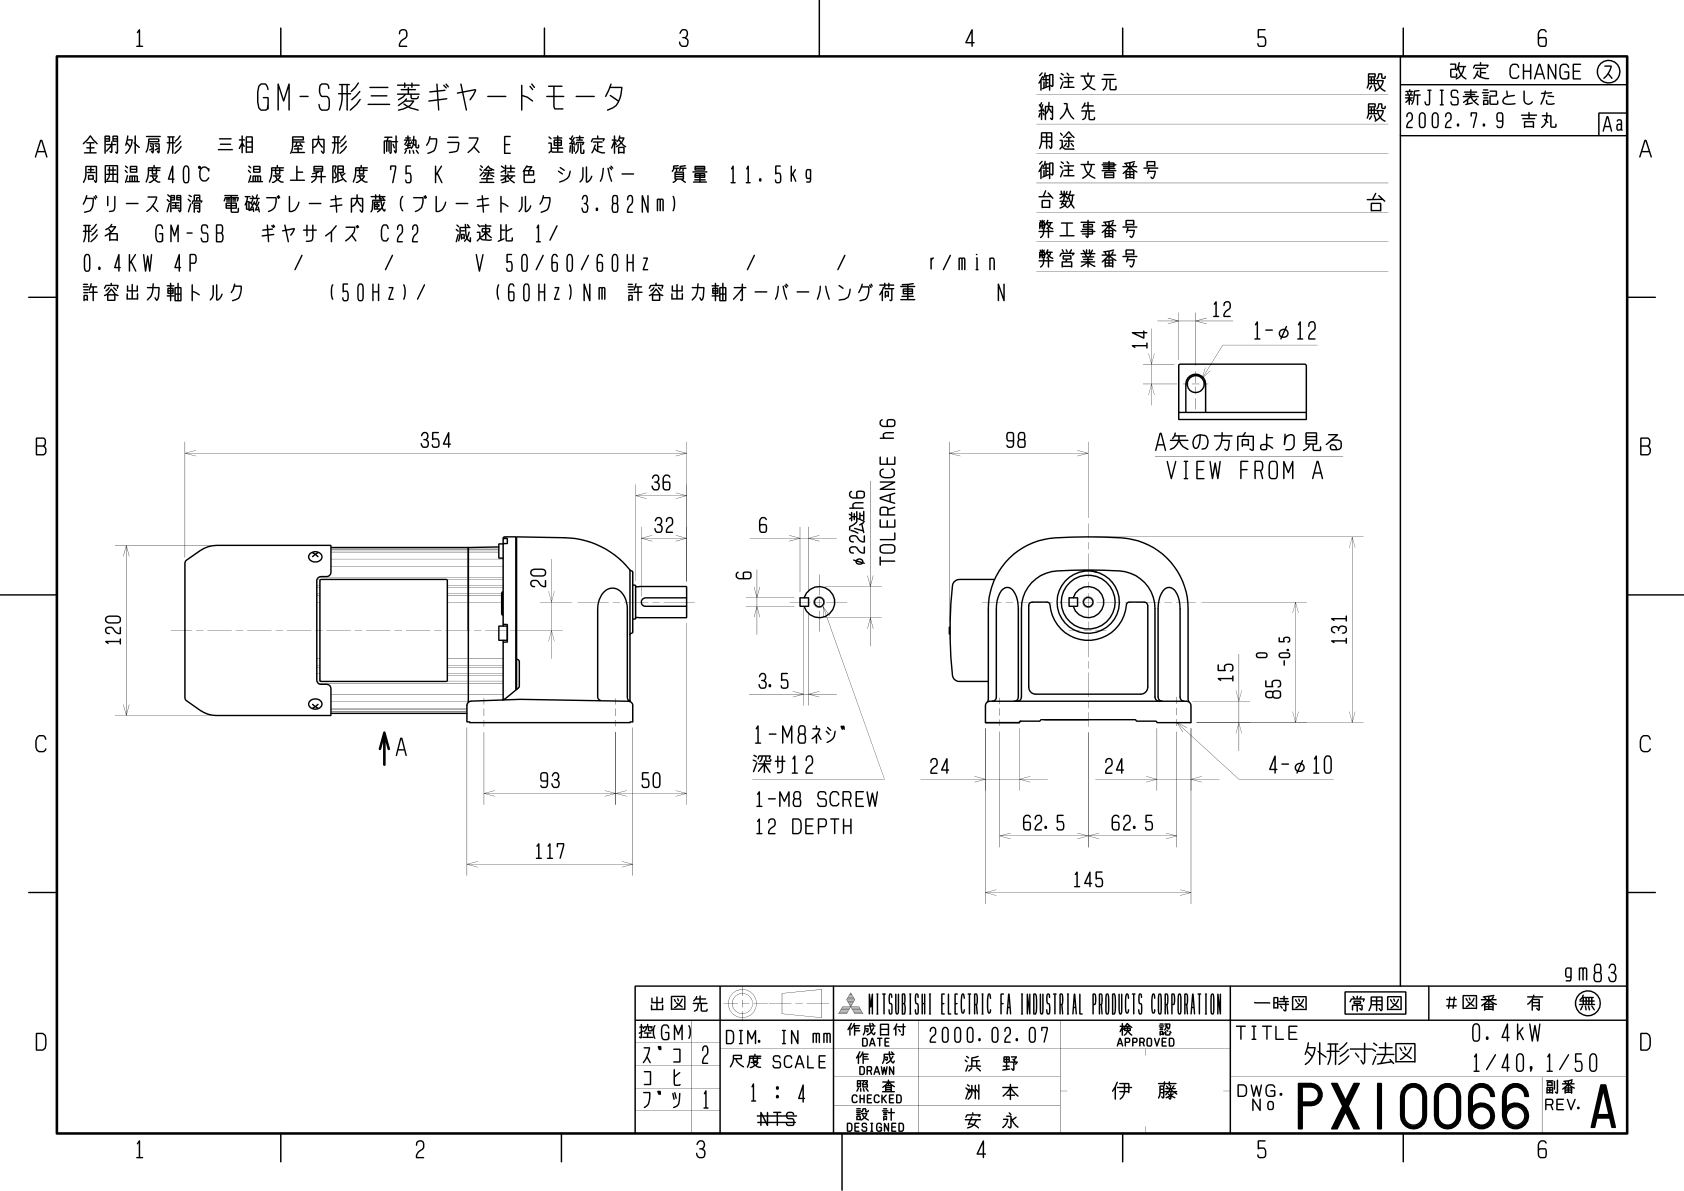GM_S_屋内＿三相_脚: (6, 6, 1684, 1191)
